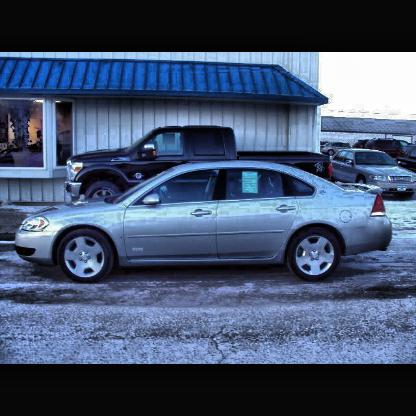Chevrolet Impala Sedan 2007: (15, 159, 395, 285)
